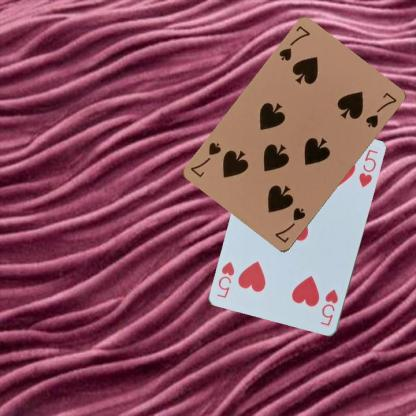5h: (318, 287, 340, 328)
7s: (272, 205, 308, 245), (276, 23, 312, 63)
